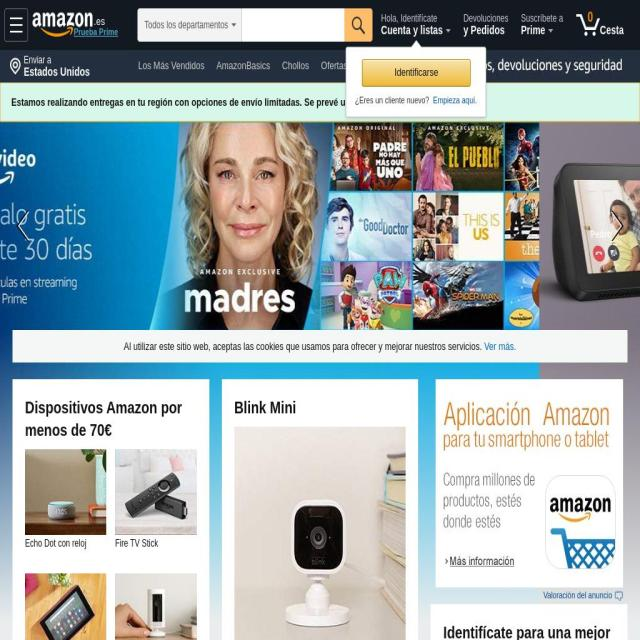button: (233, 426, 406, 640), (0, 122, 50, 330), (590, 122, 640, 330), (390, 50, 640, 82), (25, 449, 107, 535), (115, 449, 197, 535), (25, 572, 107, 640), (115, 572, 197, 640), (33, 4, 133, 46), (375, 5, 457, 47), (5, 8, 116, 38), (362, 59, 471, 87), (7, 51, 97, 83), (570, 5, 638, 47), (458, 5, 514, 47), (515, 5, 569, 47), (212, 128, 310, 150), (215, 92, 304, 113), (202, 165, 284, 187), (133, 128, 211, 150), (133, 92, 214, 113), (133, 55, 210, 77), (133, 165, 201, 187), (211, 55, 276, 77), (133, 202, 199, 223), (305, 92, 370, 113), (258, 202, 318, 223), (201, 202, 256, 223), (312, 128, 362, 150), (543, 590, 623, 602), (4, 8, 28, 42), (277, 55, 314, 77), (316, 55, 353, 77), (285, 165, 322, 187), (74, 28, 118, 36)
field: (242, 9, 344, 41), (343, 8, 372, 42)
heading: (25, 396, 197, 441), (234, 396, 406, 418), (443, 621, 616, 640)
iframe: (435, 379, 623, 588)
image: (233, 426, 406, 640), (390, 50, 640, 82), (25, 449, 107, 535), (115, 449, 197, 535), (25, 572, 107, 640), (115, 572, 197, 640), (33, 12, 93, 38), (576, 14, 600, 36), (8, 57, 22, 76), (10, 18, 22, 32), (614, 591, 623, 601)
link: (14, 204, 36, 248), (604, 204, 626, 248), (432, 95, 477, 105), (484, 340, 516, 352)
text: (11, 96, 445, 108), (124, 340, 482, 352), (362, 60, 470, 85), (144, 12, 229, 39), (24, 66, 97, 82), (25, 536, 87, 552), (381, 23, 443, 37), (463, 24, 511, 41), (355, 95, 432, 105), (543, 590, 615, 600), (115, 536, 158, 552), (381, 13, 443, 24), (464, 13, 514, 24), (520, 13, 568, 24), (23, 54, 58, 66), (520, 23, 546, 37), (599, 23, 624, 37), (351, 17, 365, 34), (94, 16, 104, 27)
